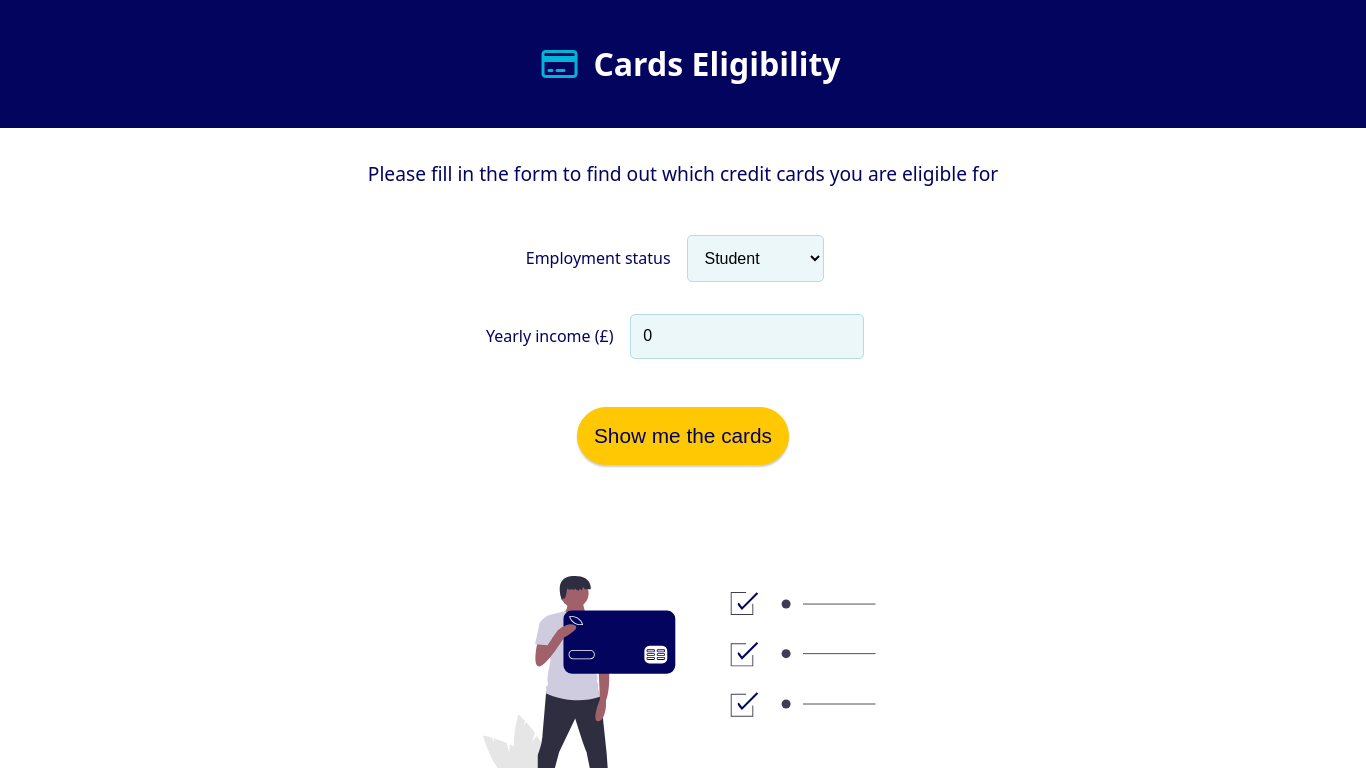
Test: Test Form › It returns an error message missing income (mock fetch API)
The width and height of the screenshot is (1366, 768).
Click the button "Show me the cards": [683, 436] box [577, 407, 789, 465]
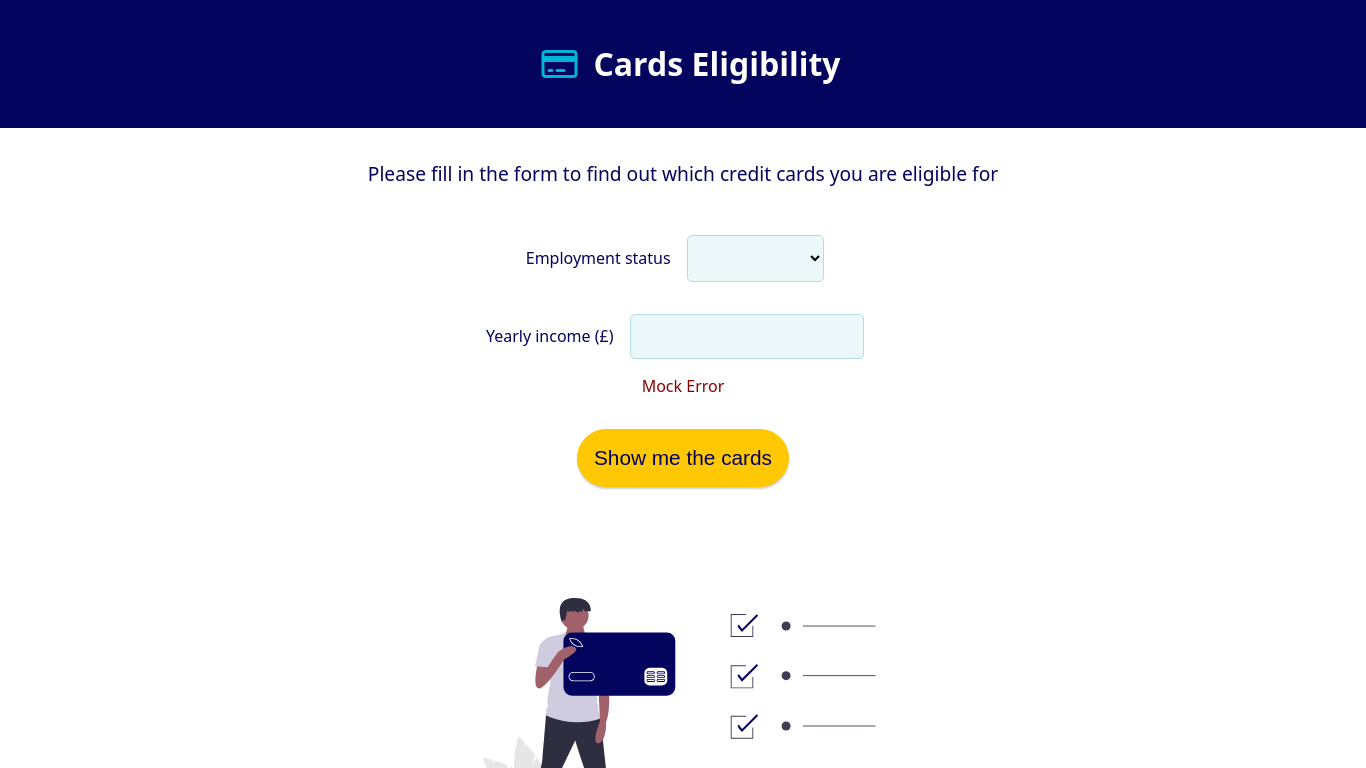
Result: the text "Mock Error" is shown at [642, 375, 724, 397]
